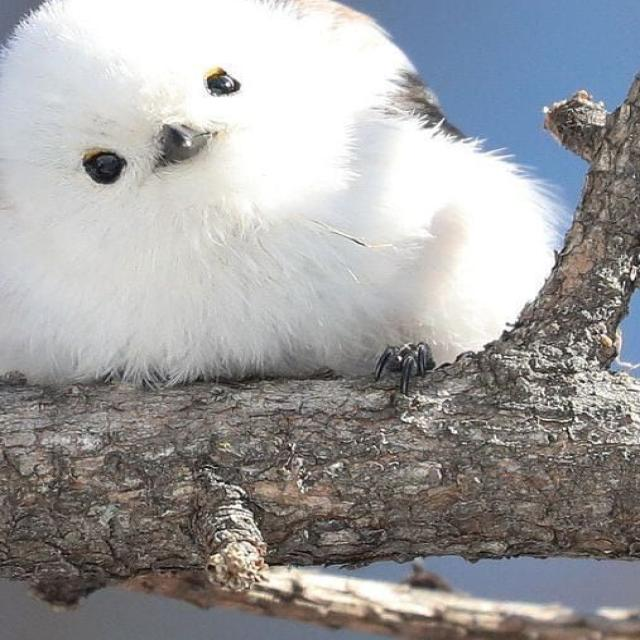bird: (0, 0, 578, 392)
